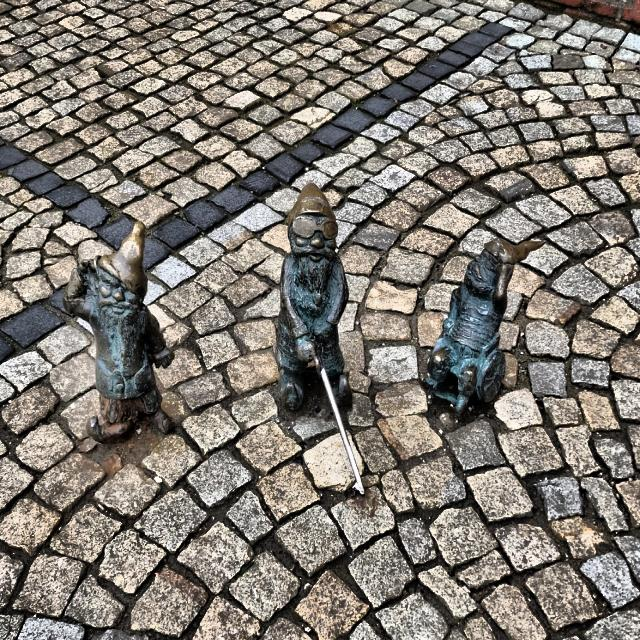Gluchak: (62, 221, 175, 443)
Slepak: (275, 184, 367, 497)
W-Skers: (421, 236, 547, 414)
